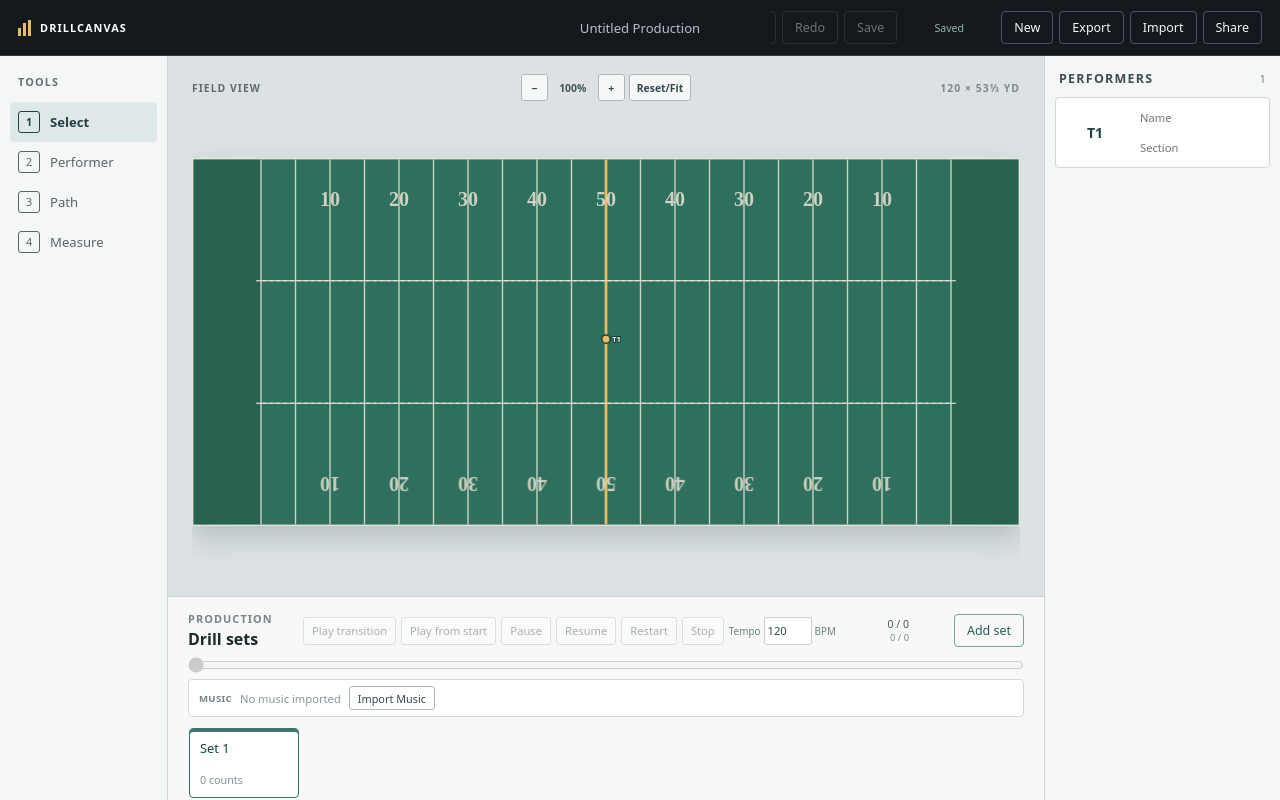
Test: project persistence › explicit Save writes the current snapshot and resets dirty state
Replace the text in the field named "Production name" with "Explicit Save" at (640, 28), box [510,12,770,42]
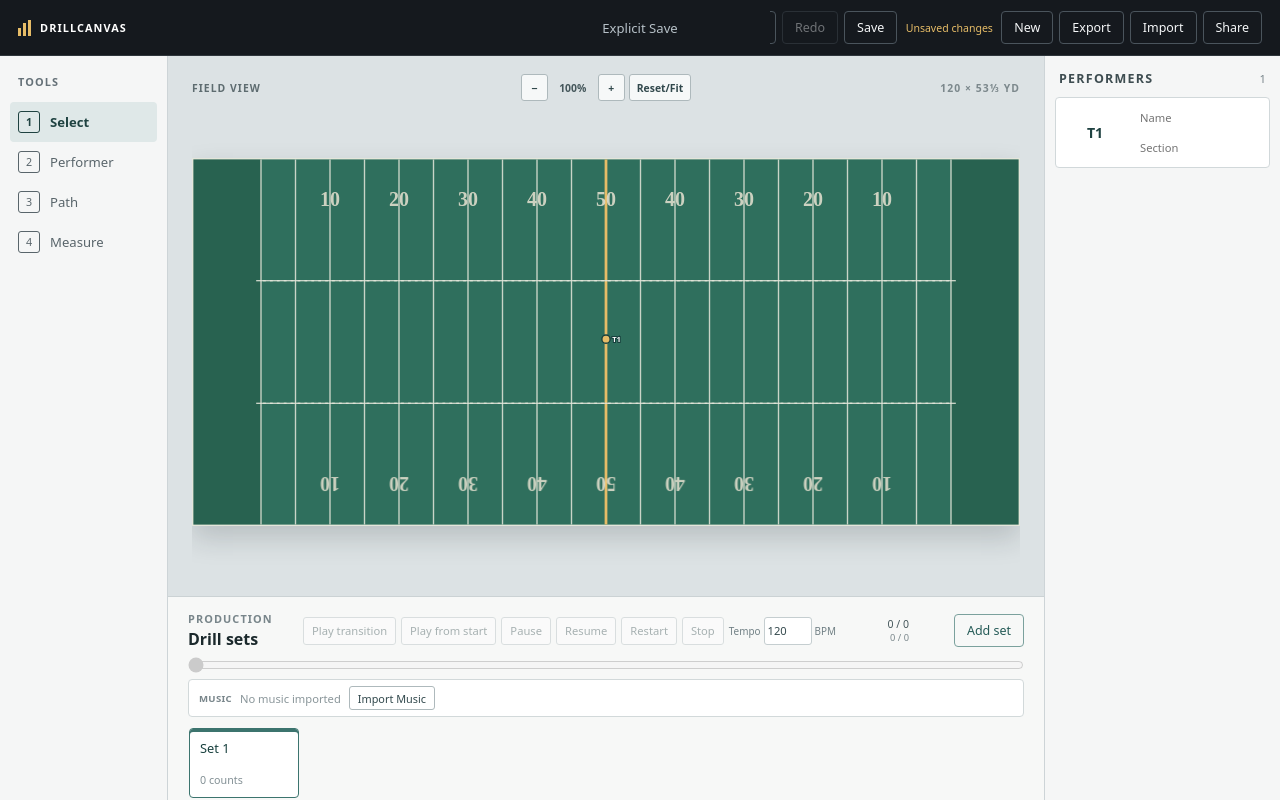
Click the button "Save" at (871, 28), box [844,11,897,44]
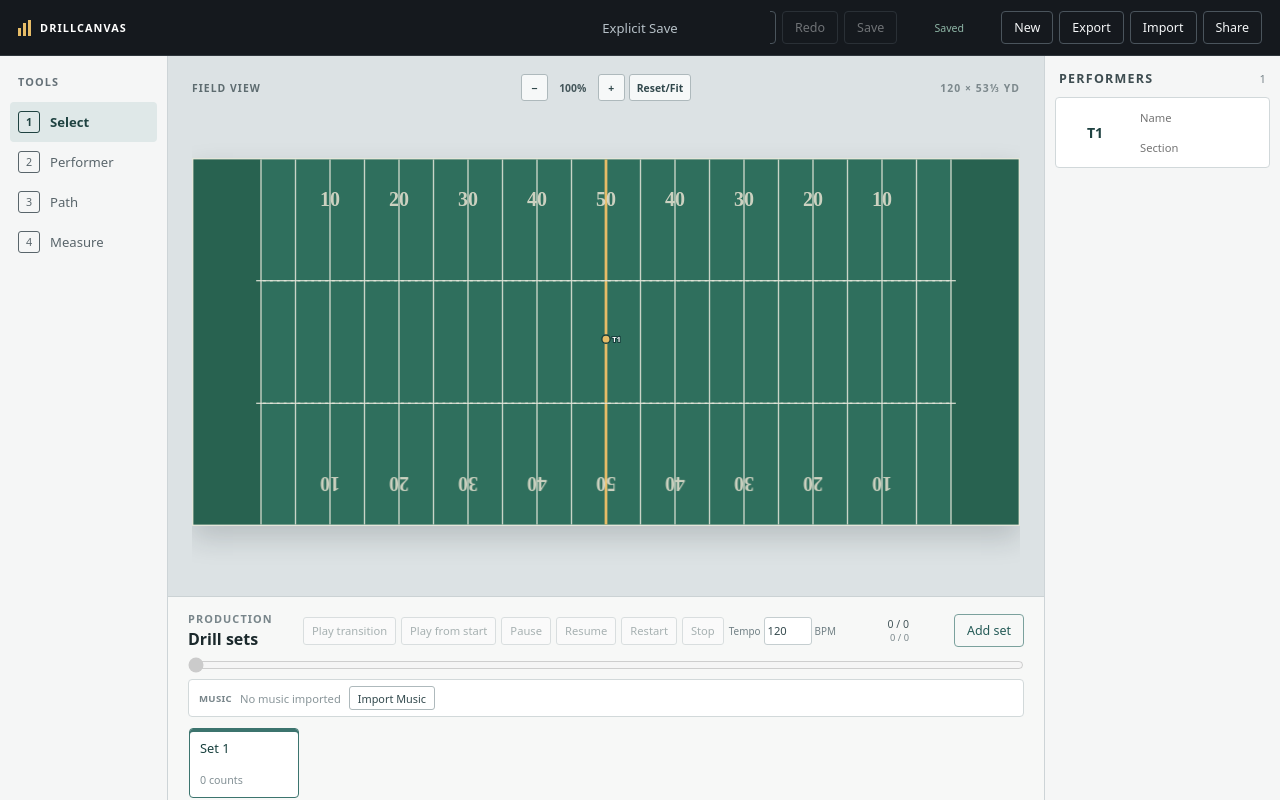
Result: the button "Save" is disabled at [844,11,897,44]
Result: the text named "Save status" reads "Saved" at [934,20,964,34]
